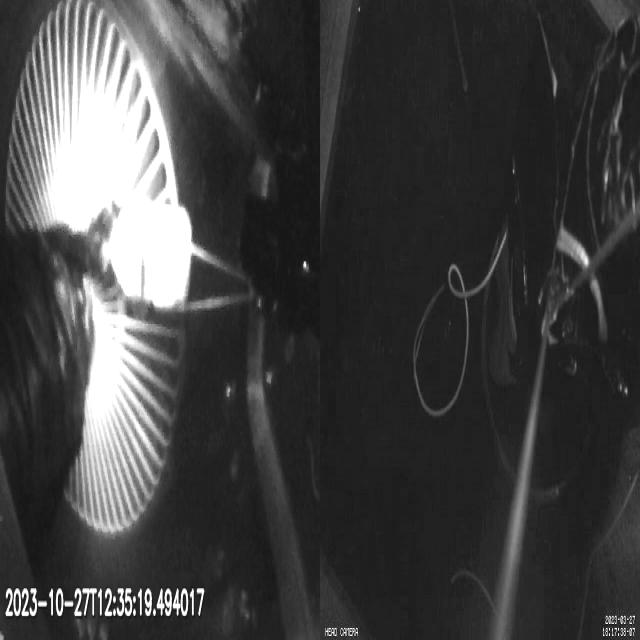head: (113, 201, 192, 313)
